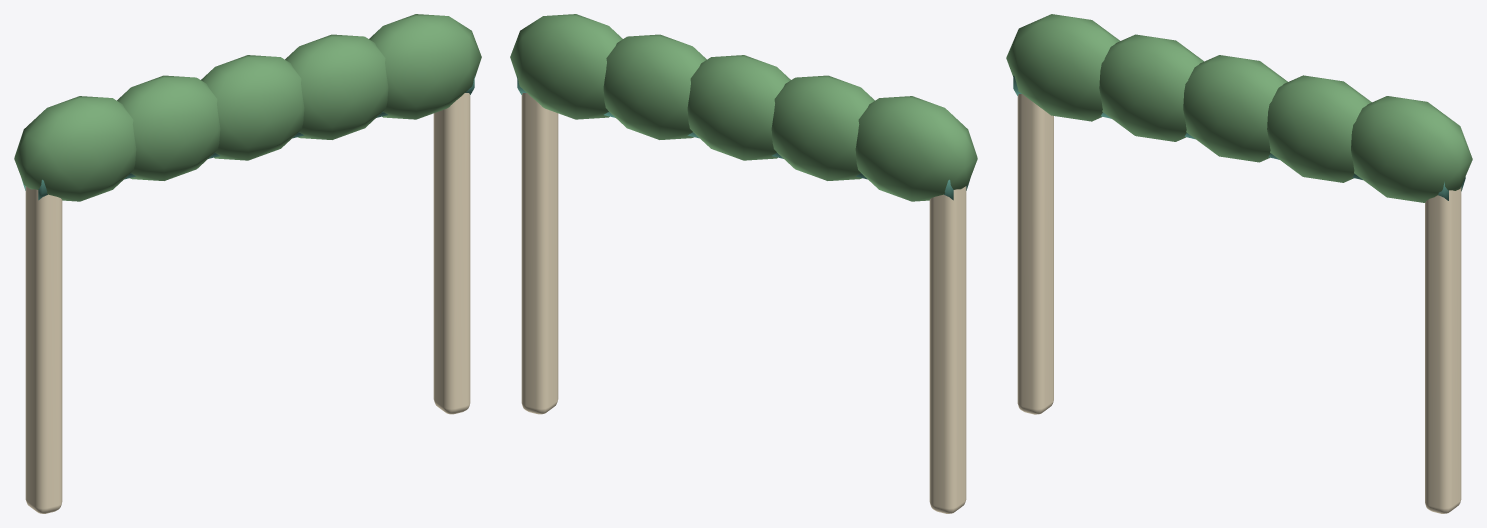
File: Park_entry_arch.fbx
3 views of the same model, side by side, from view 1: azimuth 30°, elevation 25°; view 2: azimuth 150°, elevation 25°; view 3: azimuth 330°, elevation 25° (orthographic).
Parts seen in each view (by area): view 1: Town_Park_entry_arch Arch post.002, Town_Park_entry_arch Arch post.003, Town_Park_entry_arch Arch greenery.005, Town_Park_entry_arch Arch greenery.009, Town_Park_entry_arch Arch greenery.007, Town_Park_entry_arch Arch greenery.008, Town_Park_entry_arch Arch greenery.006; view 2: Town_Park_entry_arch Arch post.002, Town_Park_entry_arch Arch post.003, Town_Park_entry_arch Arch greenery.005, Town_Park_entry_arch Arch greenery.009, Town_Park_entry_arch Arch greenery.007, Town_Park_entry_arch Arch greenery.008, Town_Park_entry_arch Arch greenery.006; view 3: Town_Park_entry_arch Arch post.003, Town_Park_entry_arch Arch post.002, Town_Park_entry_arch Arch greenery.009, Town_Park_entry_arch Arch greenery.005, Town_Park_entry_arch Arch greenery.006, Town_Park_entry_arch Arch greenery.007, Town_Park_entry_arch Arch greenery.008.
Boxes of the visible parts, bbox=[...] form: Town_Park_entry_arch Arch post.002: bbox=[25, 186, 62, 513]; Town_Park_entry_arch Arch post.003: bbox=[433, 93, 470, 414]; Town_Park_entry_arch Arch greenery.005: bbox=[14, 96, 136, 201]; Town_Park_entry_arch Arch greenery.009: bbox=[369, 14, 481, 119]; Town_Park_entry_arch Arch greenery.007: bbox=[201, 55, 304, 160]; Town_Park_entry_arch Arch greenery.008: bbox=[285, 34, 388, 139]; Town_Park_entry_arch Arch greenery.006: bbox=[117, 75, 220, 180]; Town_Park_entry_arch Arch post.002: bbox=[929, 186, 966, 513]; Town_Park_entry_arch Arch post.003: bbox=[521, 93, 558, 414]; Town_Park_entry_arch Arch greenery.005: bbox=[855, 96, 977, 201]; Town_Park_entry_arch Arch greenery.009: bbox=[510, 14, 622, 119]; Town_Park_entry_arch Arch greenery.007: bbox=[687, 55, 790, 160]; Town_Park_entry_arch Arch greenery.008: bbox=[603, 34, 706, 139]; Town_Park_entry_arch Arch greenery.006: bbox=[771, 75, 874, 180]; Town_Park_entry_arch Arch post.003: bbox=[1425, 187, 1461, 513]; Town_Park_entry_arch Arch post.002: bbox=[1017, 94, 1053, 414]; Town_Park_entry_arch Arch greenery.009: bbox=[1351, 96, 1472, 202]; Town_Park_entry_arch Arch greenery.005: bbox=[1006, 14, 1119, 121]; Town_Park_entry_arch Arch greenery.006: bbox=[1099, 34, 1203, 141]; Town_Park_entry_arch Arch greenery.007: bbox=[1183, 55, 1287, 162]; Town_Park_entry_arch Arch greenery.008: bbox=[1267, 75, 1371, 182].
Bounding box in the file's own units: 379 × 320 × 60.
